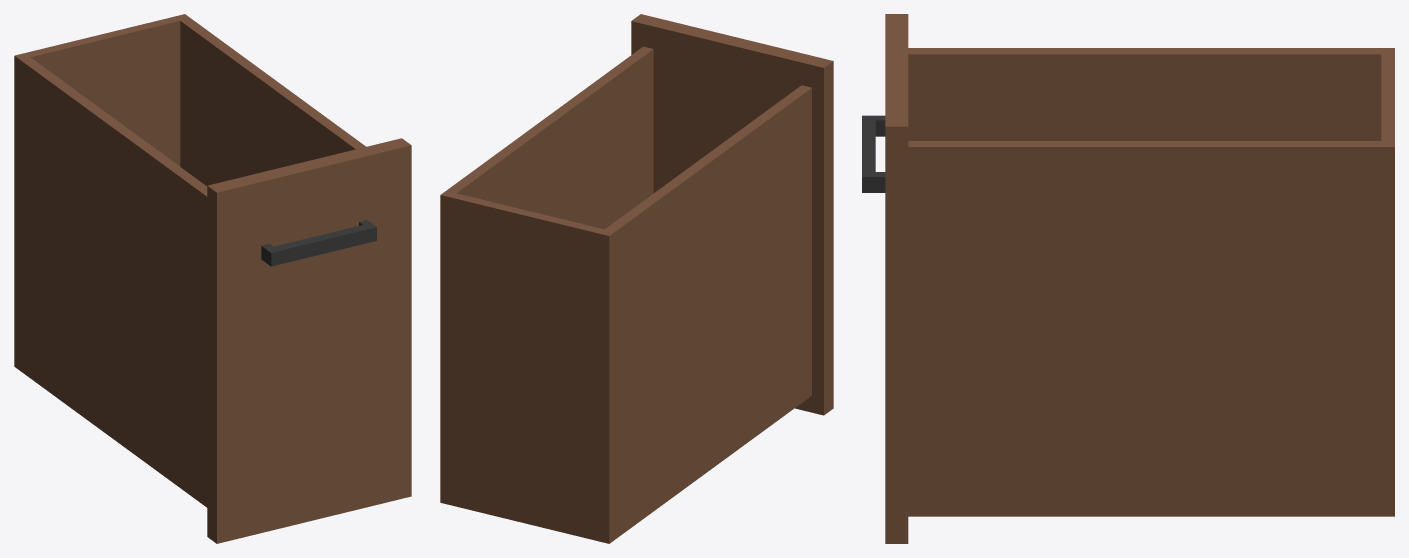
Rendered from Door2_C2_08.fbx.
3 views of the same model, side by side, from view 1: azimuth 30°, elevation 25°; view 2: azimuth 150°, elevation 25°; view 3: azimuth 270°, elevation 25° (orthographic). The views are drawn at different scales.
Parts seen in each view (by area): view 1: Door2_C2_08; view 2: Door2_C2_08; view 3: Door2_C2_08.
Boxes of the visible parts, x1,y1,x2,y2 form: Door2_C2_08: (14, 14, 411, 543); Door2_C2_08: (440, 14, 833, 543); Door2_C2_08: (862, 14, 1394, 543).
Bounding box in the file's own units: 29 × 50 × 57.89.
